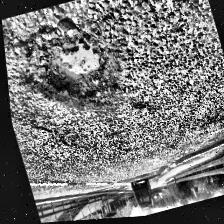pothole: (8, 10, 119, 125)
